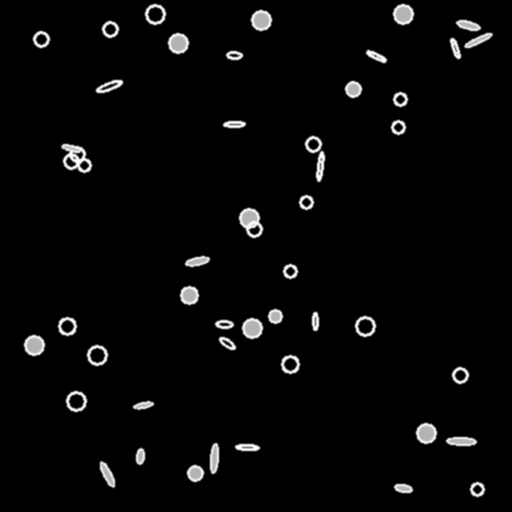pseudomonas: (98, 461, 116, 487), (464, 32, 492, 48), (96, 79, 122, 93), (209, 443, 219, 473), (366, 49, 386, 63), (457, 19, 479, 31), (218, 336, 236, 350), (449, 38, 461, 58), (446, 437, 476, 445), (185, 256, 209, 266), (316, 152, 324, 180), (62, 143, 80, 153), (133, 401, 153, 409), (235, 444, 259, 450), (216, 320, 232, 328), (136, 448, 144, 464), (395, 484, 411, 492), (224, 121, 244, 127), (312, 312, 318, 330), (226, 52, 242, 58)
synechocystis: (240, 209, 258, 227), (417, 424, 435, 442), (243, 319, 261, 337), (169, 34, 187, 52), (252, 11, 270, 29), (88, 346, 106, 364), (25, 336, 43, 354), (356, 317, 374, 335), (67, 392, 85, 410), (146, 5, 164, 23), (394, 5, 412, 23), (59, 318, 75, 334), (181, 287, 197, 303), (282, 356, 298, 372), (346, 82, 360, 96), (453, 368, 467, 382), (306, 137, 320, 151), (188, 466, 202, 480), (64, 154, 78, 168), (70, 147, 84, 161), (103, 22, 117, 36), (34, 32, 48, 46), (247, 222, 261, 236), (284, 265, 296, 277), (78, 159, 90, 171), (471, 483, 483, 495), (300, 196, 312, 208), (269, 310, 281, 322), (394, 93, 406, 105), (392, 121, 404, 133)
